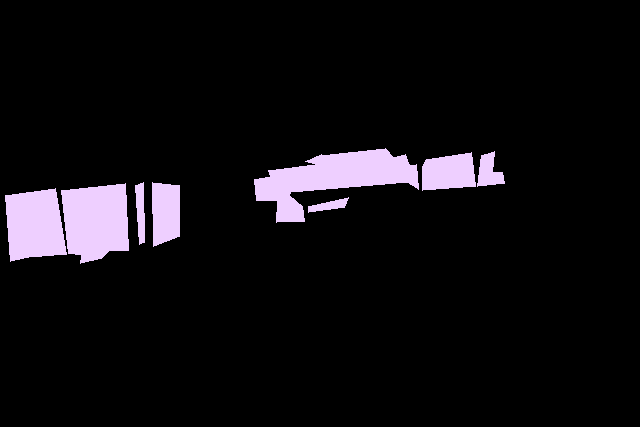Train: (254, 148, 505, 222), (5, 182, 179, 263)
